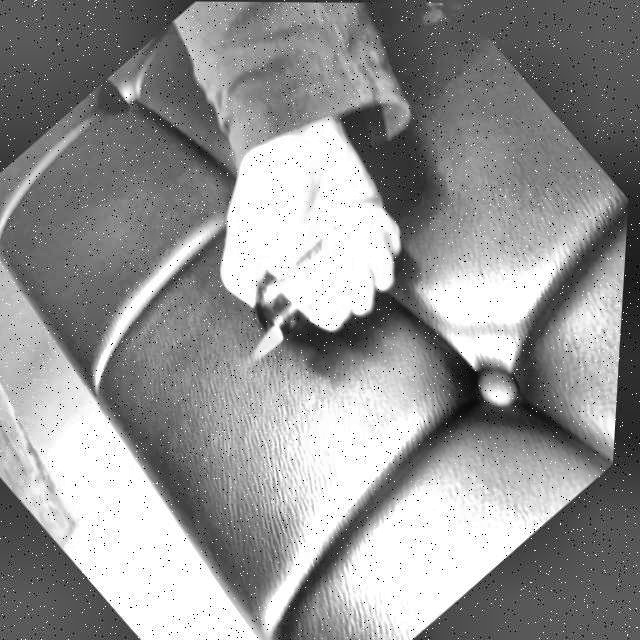Fire: (245, 319, 295, 366)
